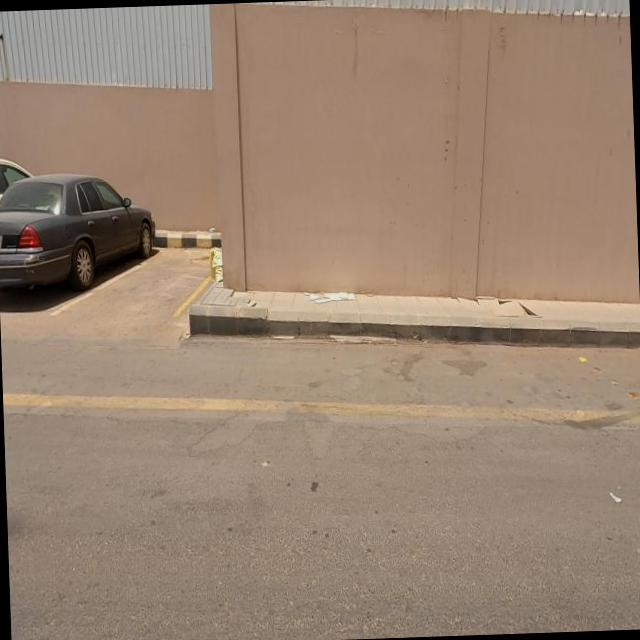debris: (284, 253, 387, 334), (186, 207, 246, 314)
